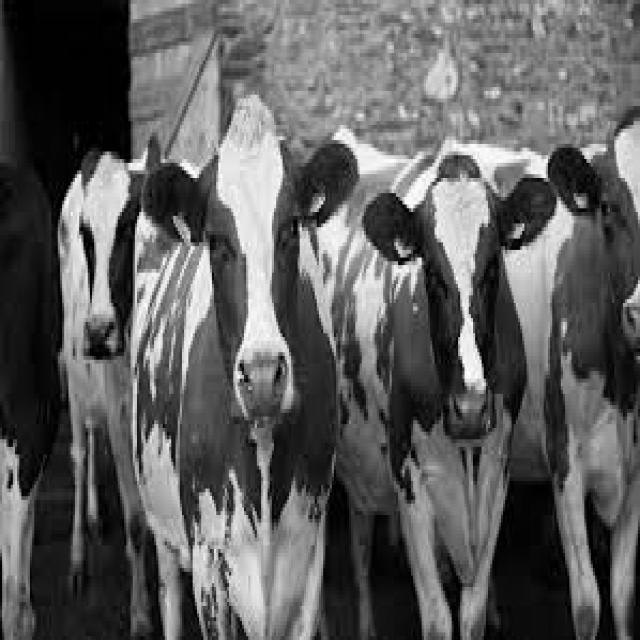Cow: (164, 152, 348, 634), (380, 133, 539, 565), (51, 124, 152, 416)
